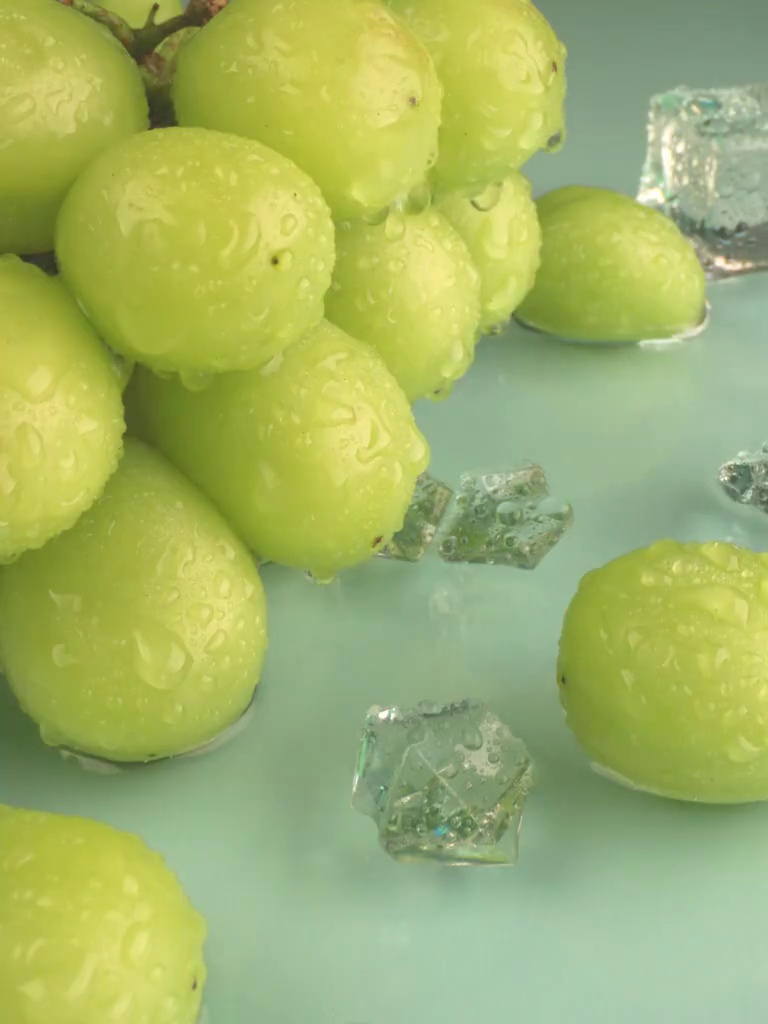grape: (1, 1, 574, 771)
